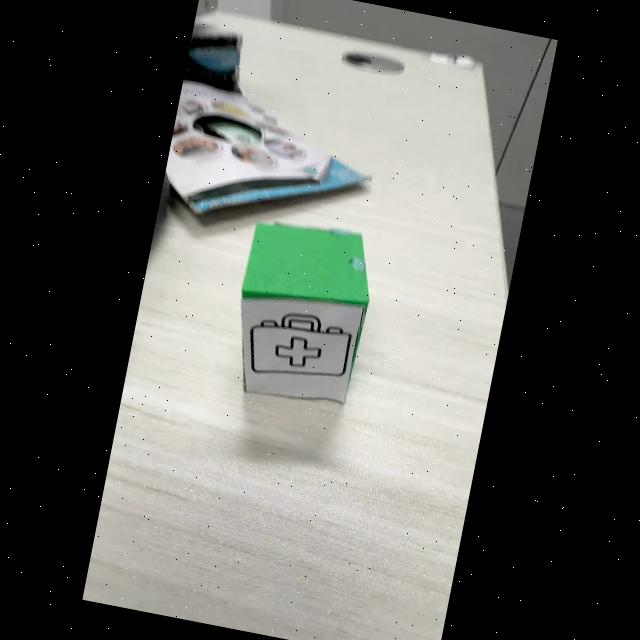Medkit: (250, 313, 352, 380)
